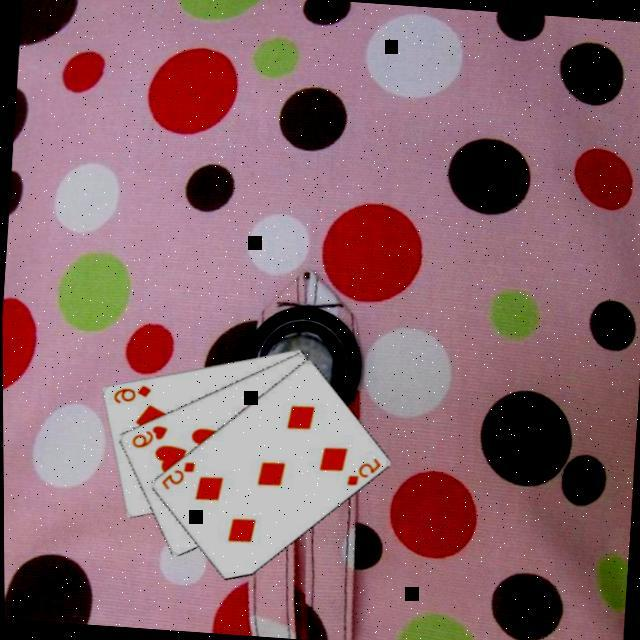5D: (155, 458, 196, 497), (341, 453, 381, 492)
6D: (109, 381, 152, 410)
9H: (126, 421, 168, 454)
